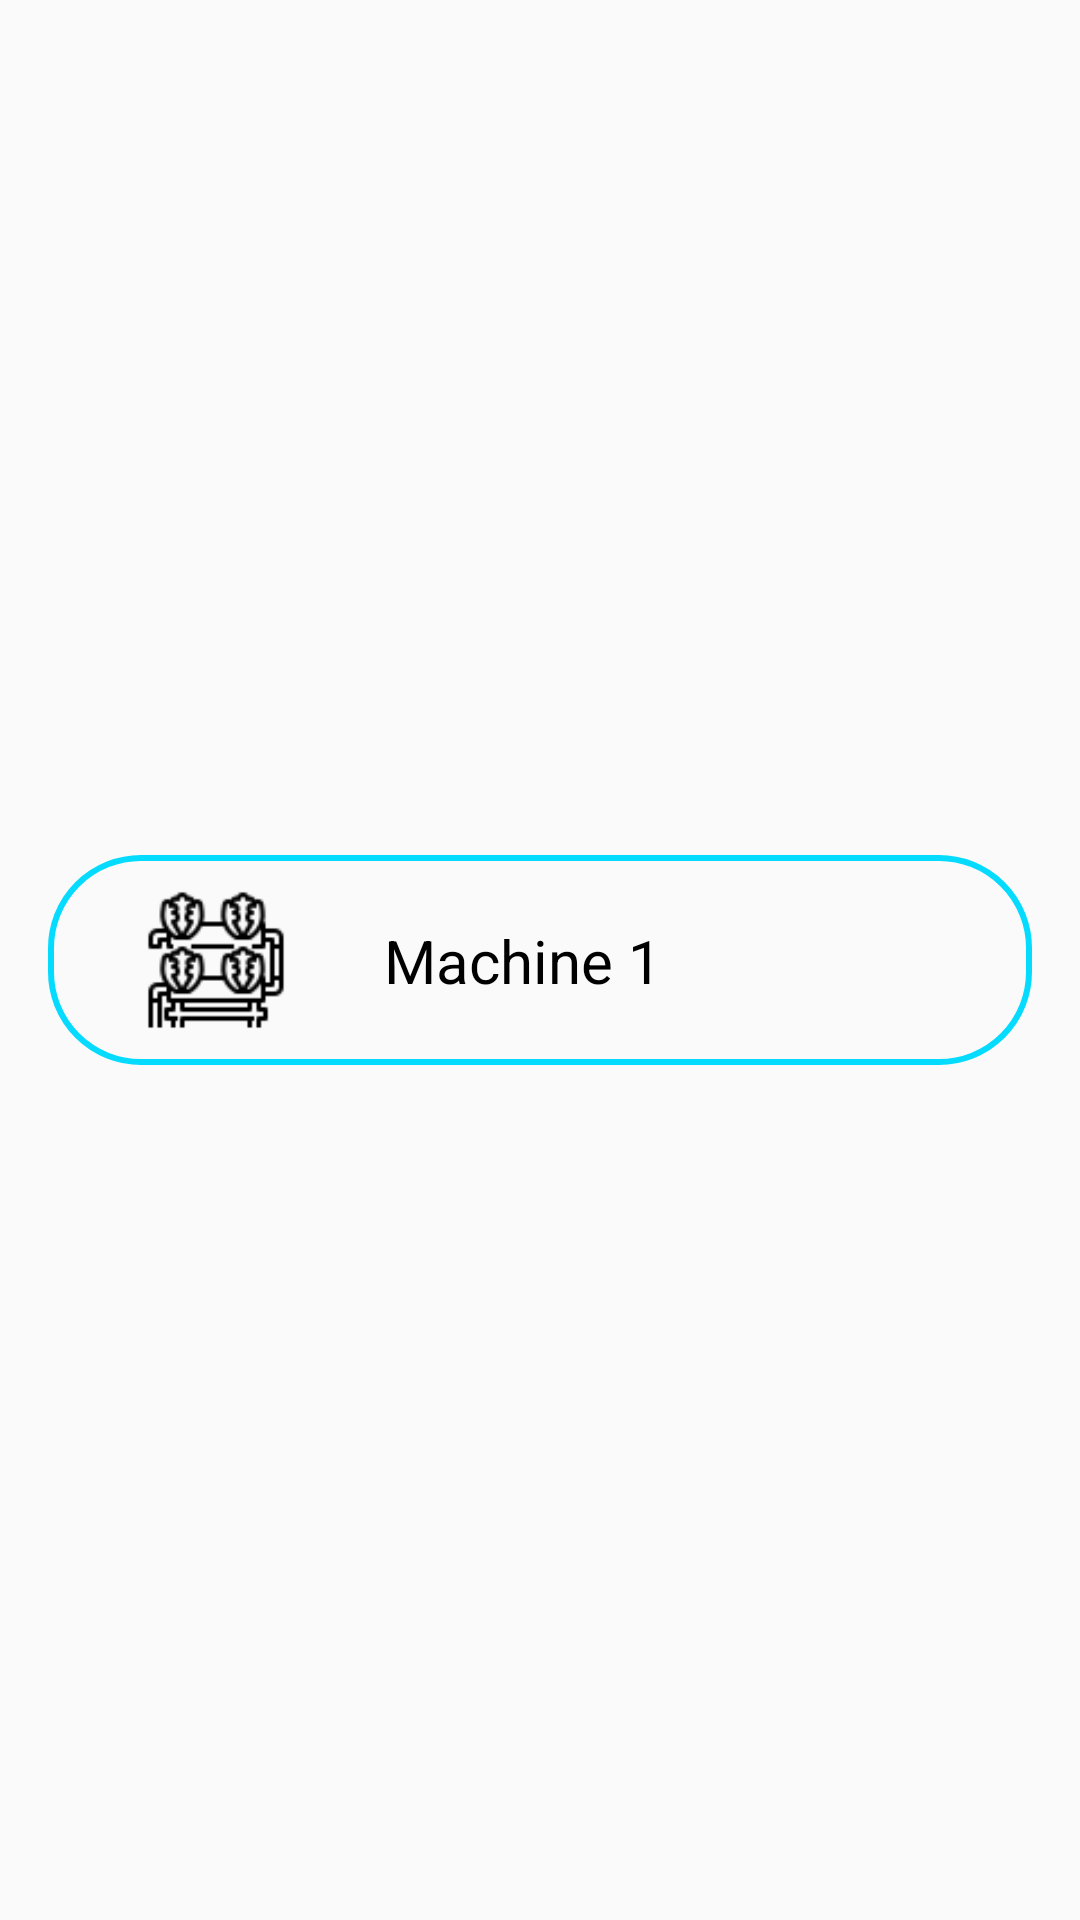

Icon click points for this 1080 x 1920 phone screenshot, format [x,y]:
hydroponic: [216,960]
